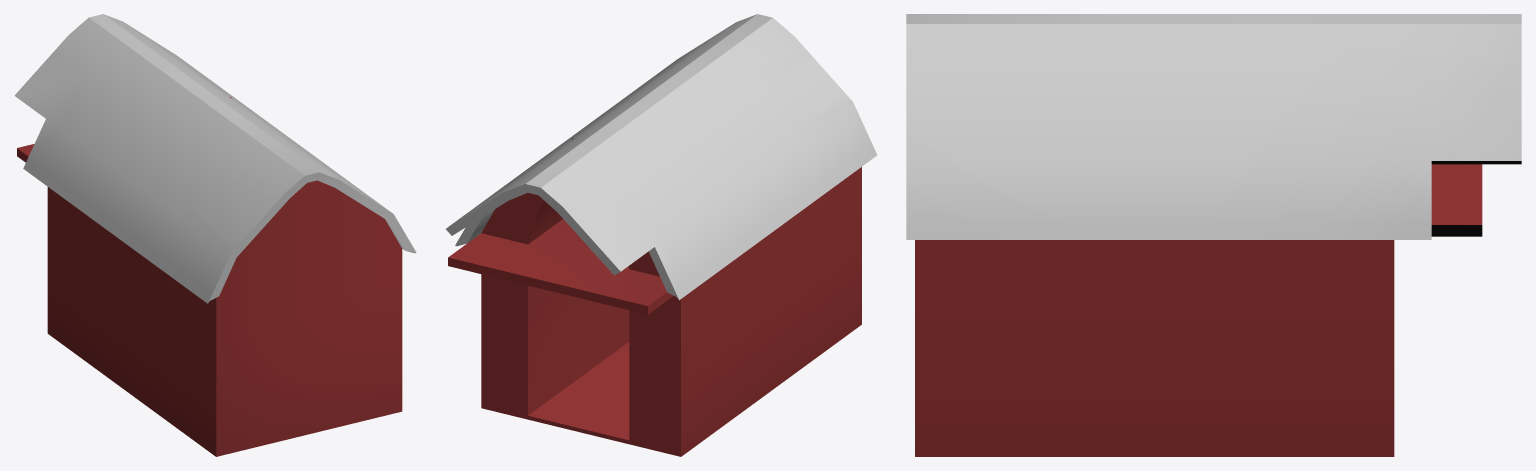
Rendered from Barnhouse.fbx.
The picture shows the model from 3 angles, left to right: view 1: azimuth 30°, elevation 25°; view 2: azimuth 150°, elevation 25°; view 3: azimuth 270°, elevation 25°; orthographic projection. The views are drawn at different scales.
Visible parts, largest first — view 1: pCube1; view 2: pCube1; view 3: pCube1.
Part boxes in pixels (<box>): pCube1: <box>14,14,416,456</box>; pCube1: <box>446,14,877,456</box>; pCube1: <box>906,14,1521,456</box>.
Bounding box in the file's own units: 7.39 × 8.88 × 13.26.
